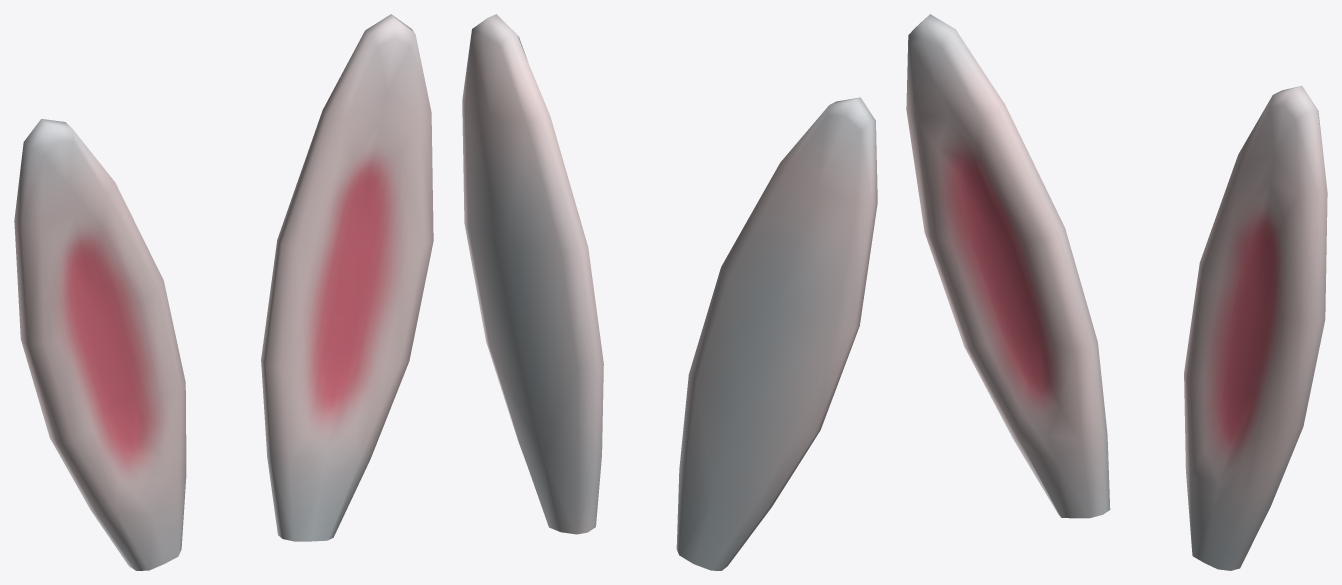
Rendered from Bunny.glb.
3 views of the same model, side by side, from view 1: azimuth 30°, elevation 25°; view 2: azimuth 150°, elevation 25°; view 3: azimuth 330°, elevation 25° (orthographic). The views are drawn at different scales.
Parts seen in each view (by area): view 1: m_Bunnyears01; view 2: m_Bunnyears01; view 3: m_Bunnyears01.
Part boxes in pixels (<box>): m_Bunnyears01: <box>14,14,433,570</box>; m_Bunnyears01: <box>462,14,877,570</box>; m_Bunnyears01: <box>906,14,1327,570</box>.
Size of the model in its own units: 0.6026 by 0.6955 by 0.1023.
1 material, 1 textured.
